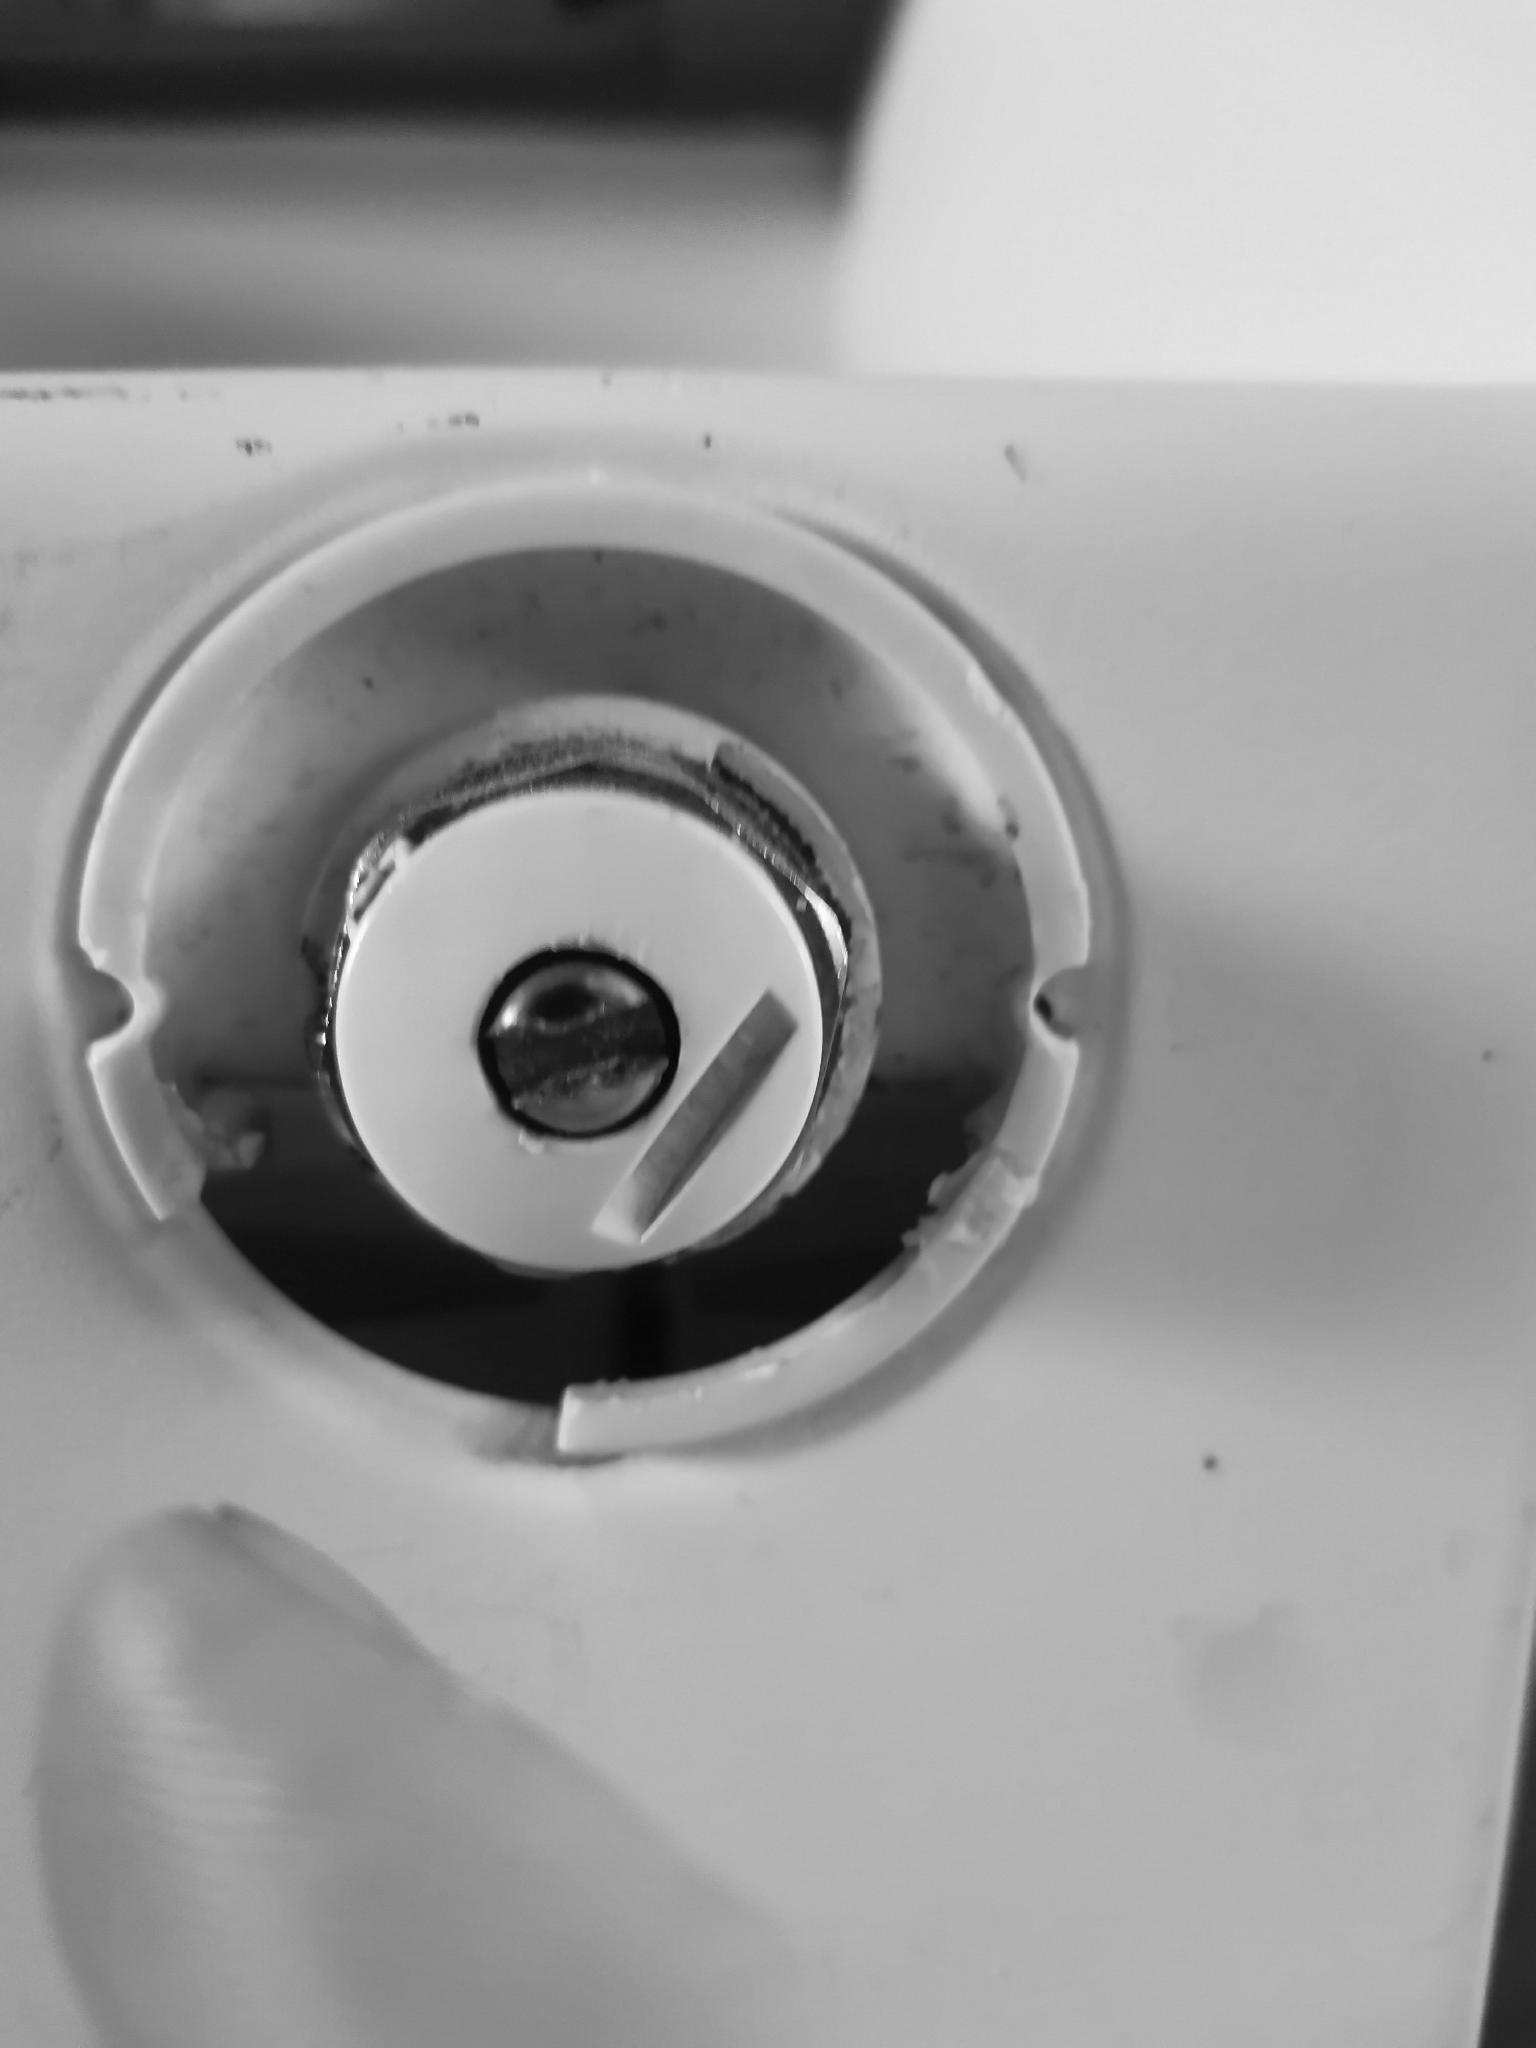screw: (457, 930, 703, 1150)
